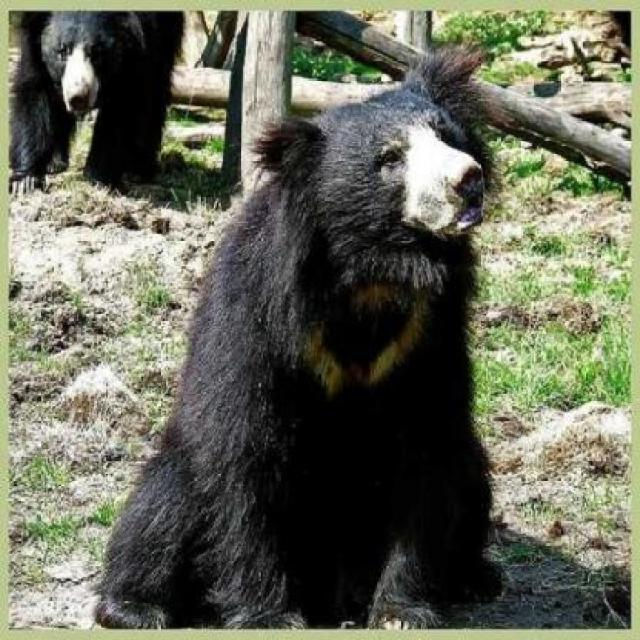Bear: (97, 47, 526, 639), (3, 0, 189, 202)
